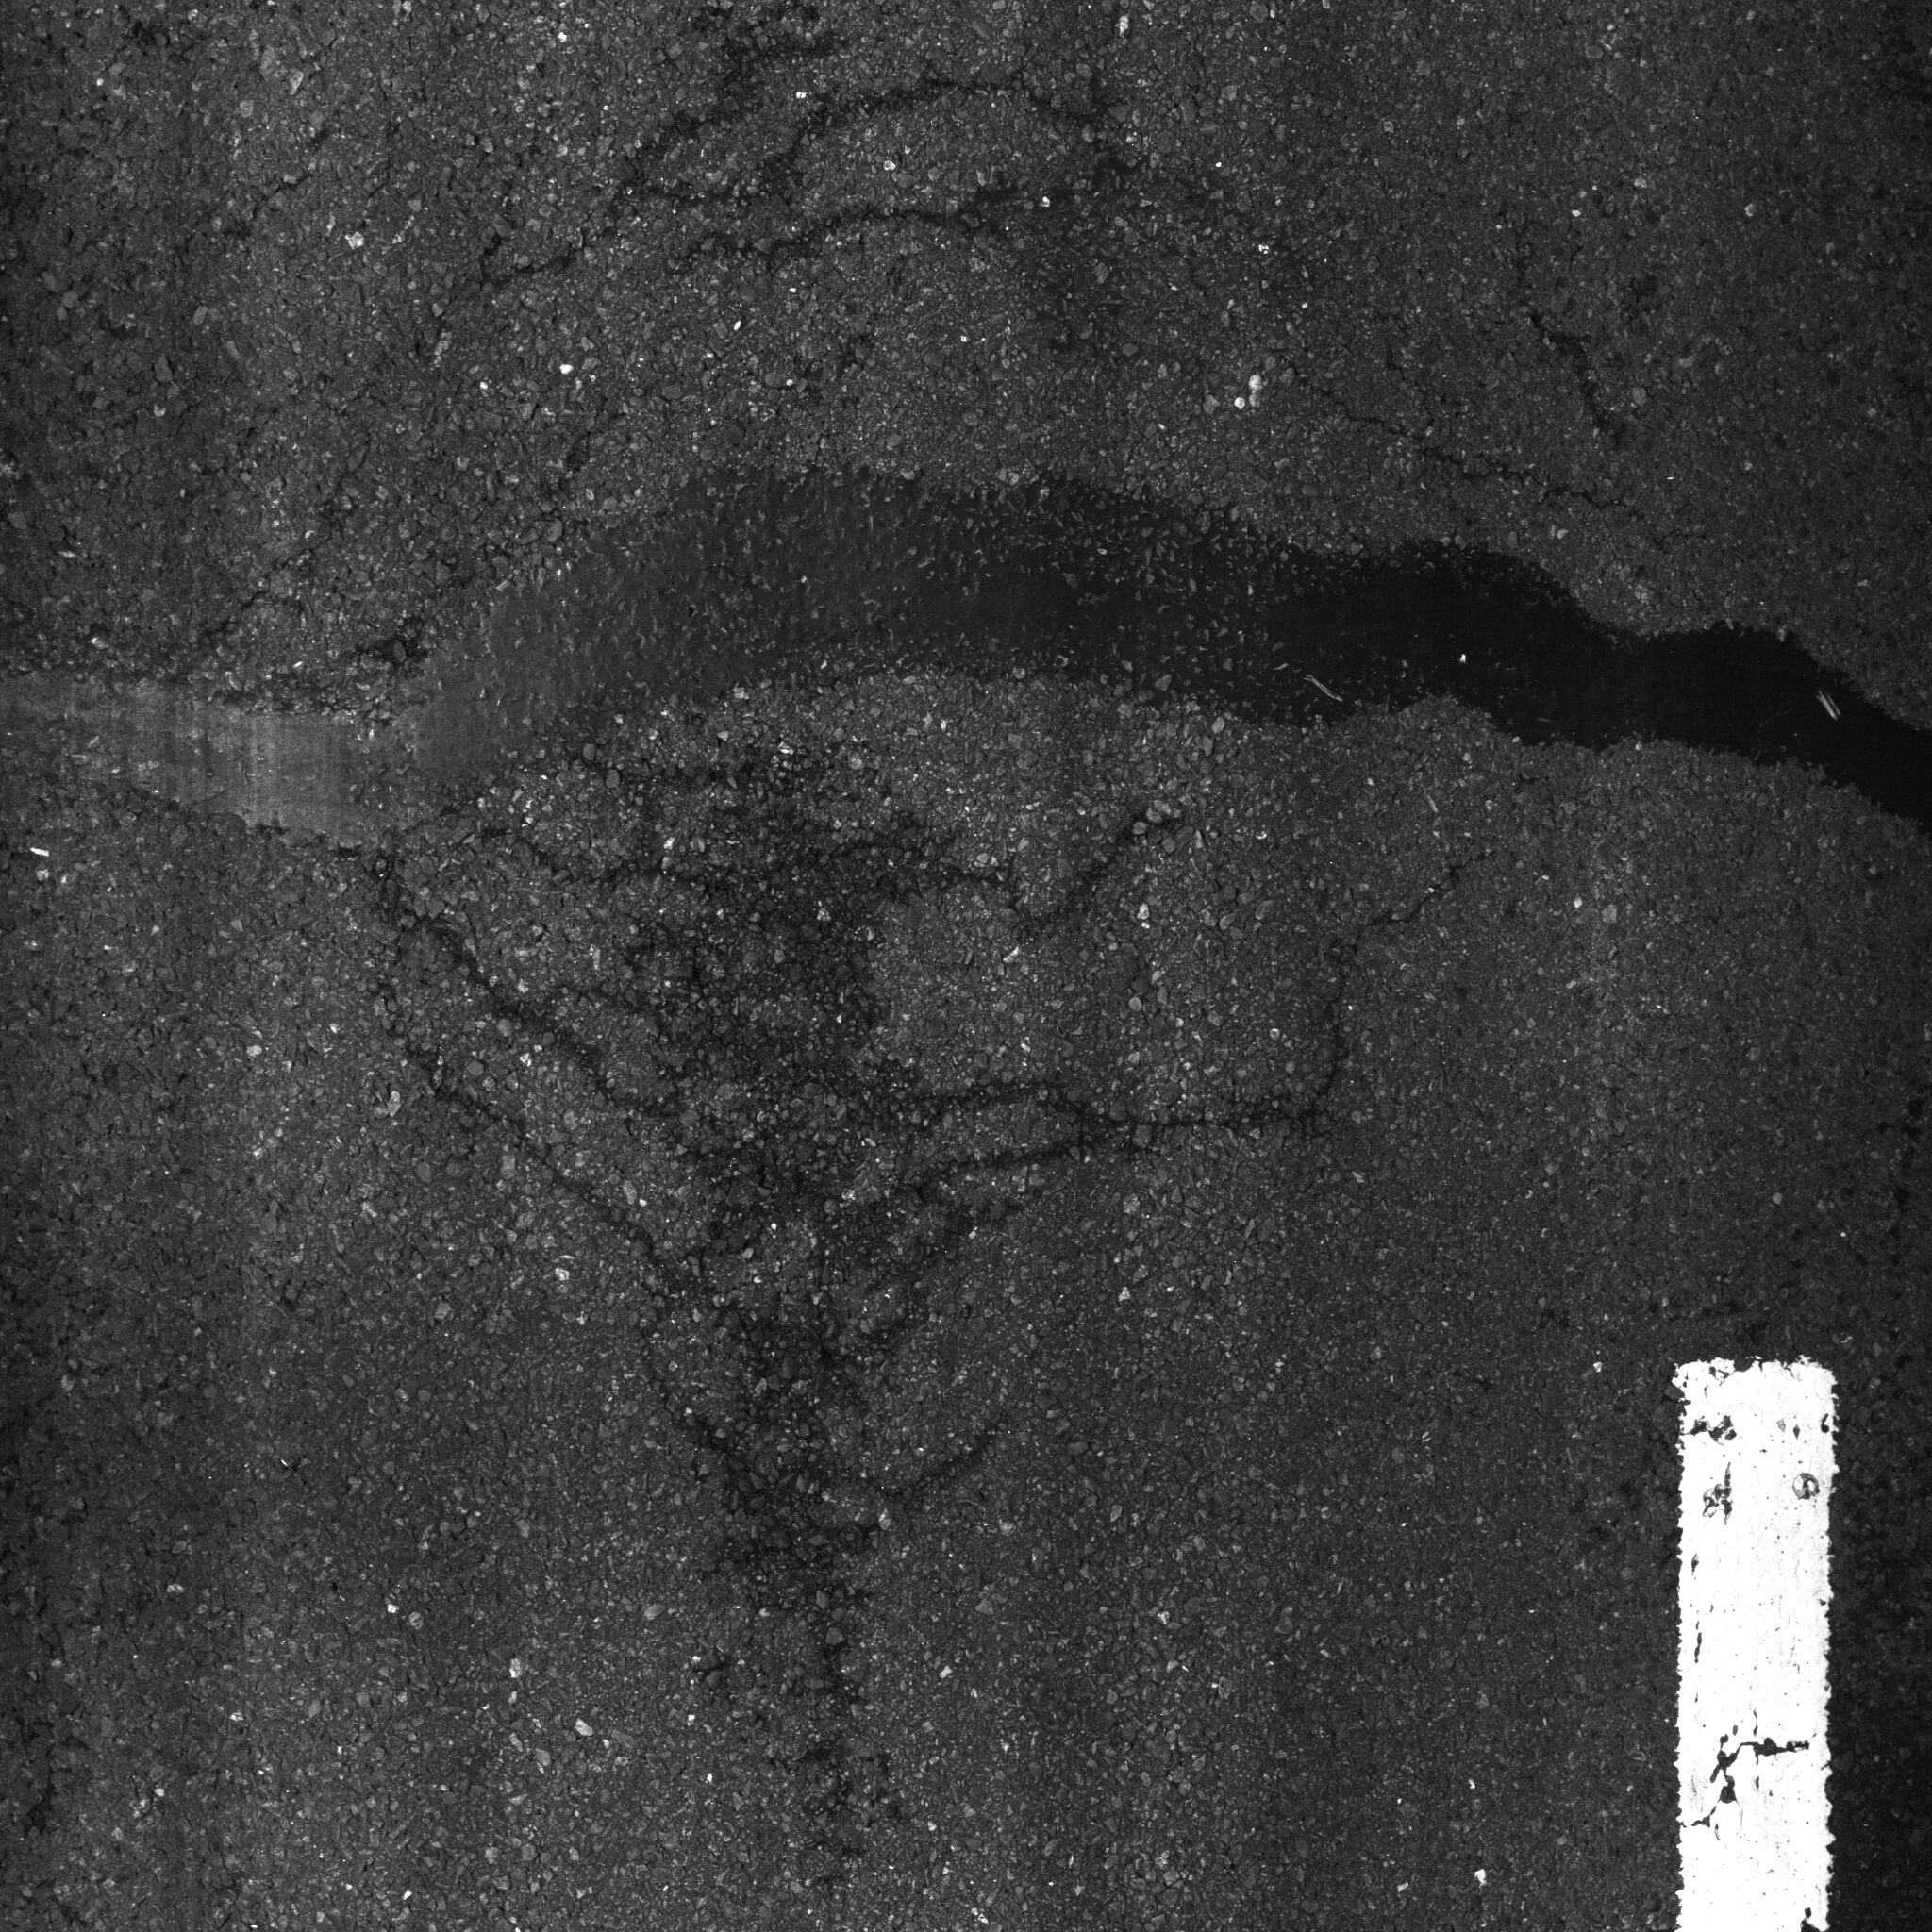alligator: (97, 37, 1633, 1737)
